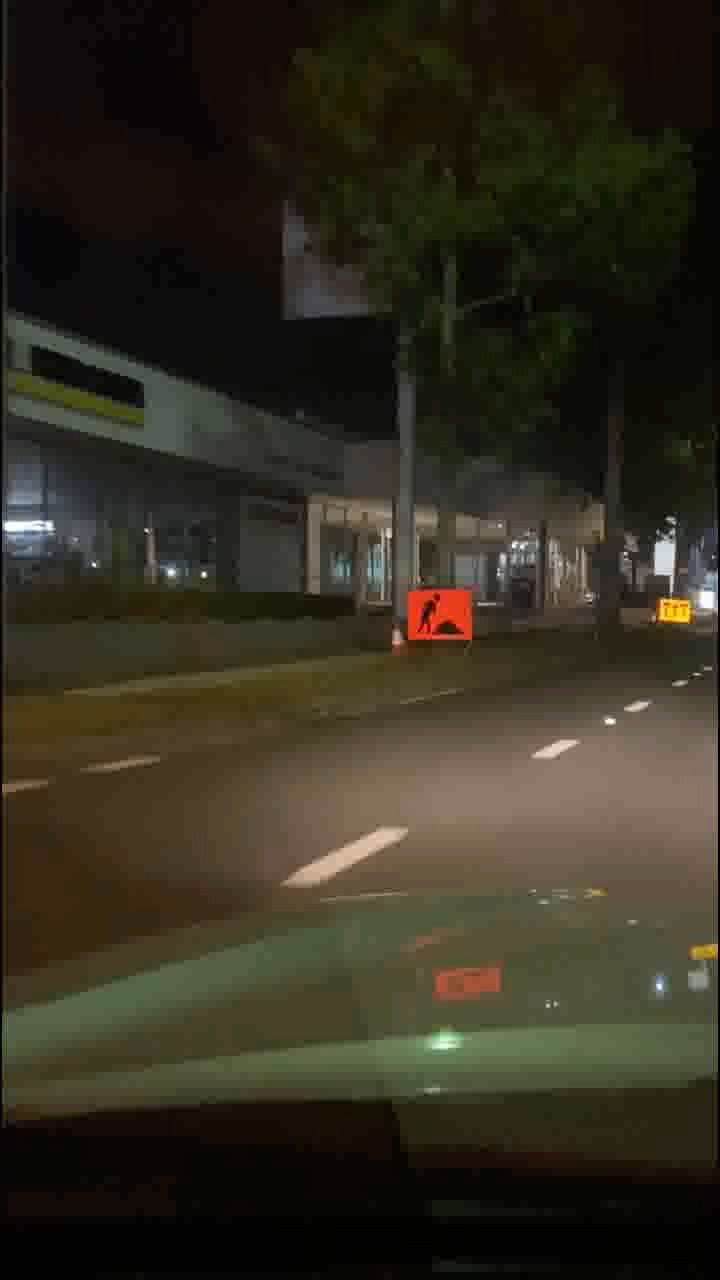road works sign board: (406, 588, 470, 638), (660, 600, 689, 621)
